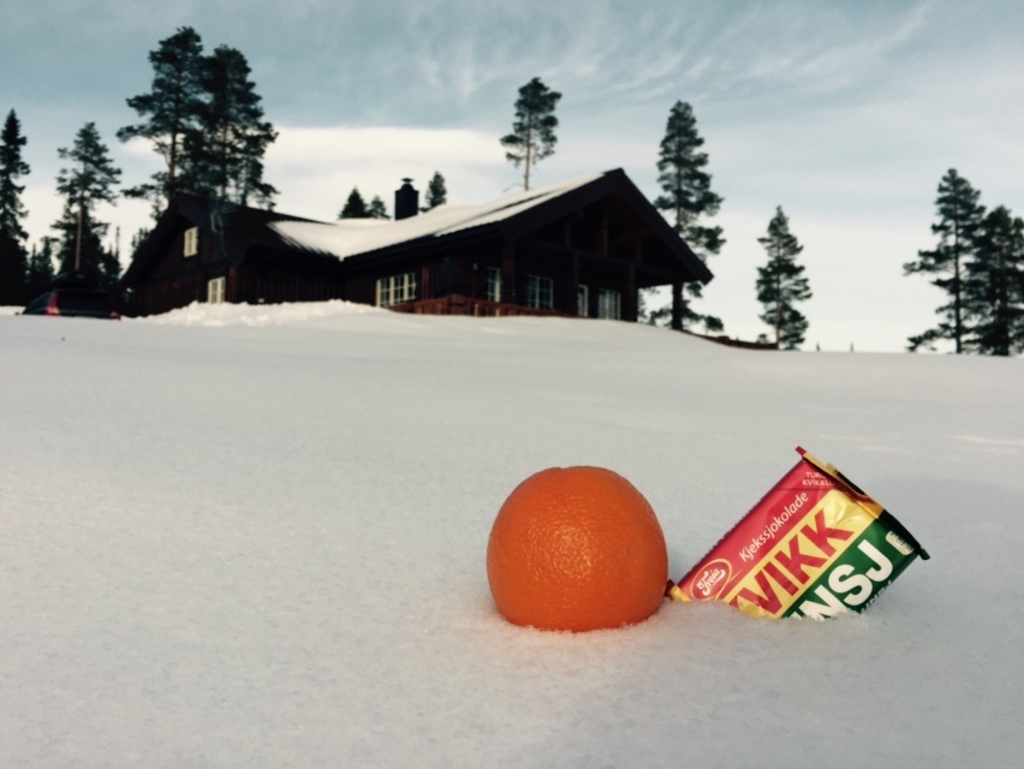Ripe: (476, 465, 668, 637)
